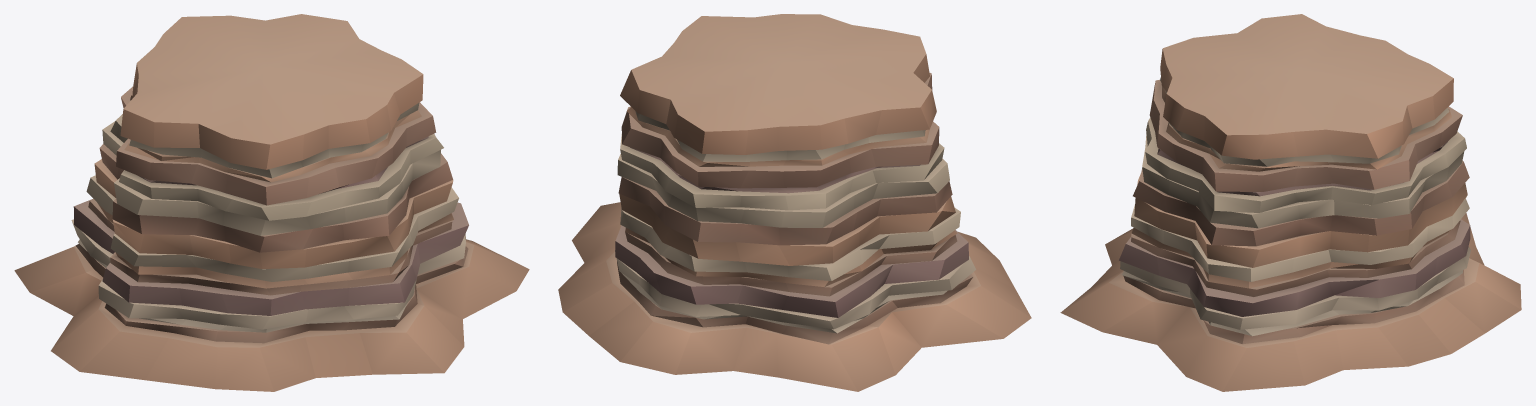
The model's file is mesa_a.glb.
The picture shows the model from 3 angles, left to right: view 1: azimuth 30°, elevation 25°; view 2: azimuth 150°, elevation 25°; view 3: azimuth 270°, elevation 25°; orthographic projection. The views are drawn at different scales.
Visible parts, largest first — view 1: mesa_a; view 2: mesa_a; view 3: mesa_a.
Boxes of the visible parts, x1,y1,x2,y2 form: mesa_a: [14, 14, 529, 391]; mesa_a: [558, 14, 1031, 391]; mesa_a: [1060, 14, 1521, 391].
Size of the model in its own units: 31.79 by 15.6 by 30.08.
